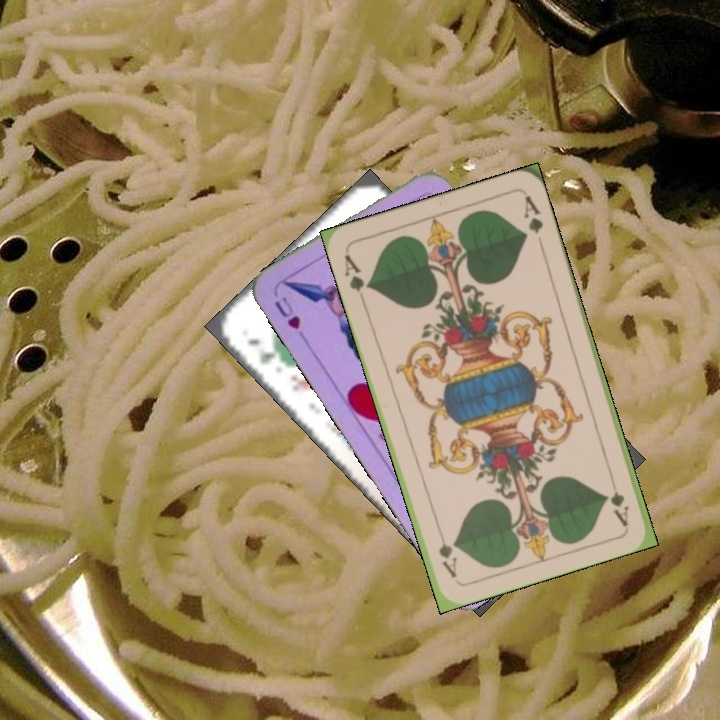GA: (340, 250, 373, 306), (605, 470, 632, 528)
GK: (243, 333, 279, 367)
HU: (269, 292, 309, 343)
